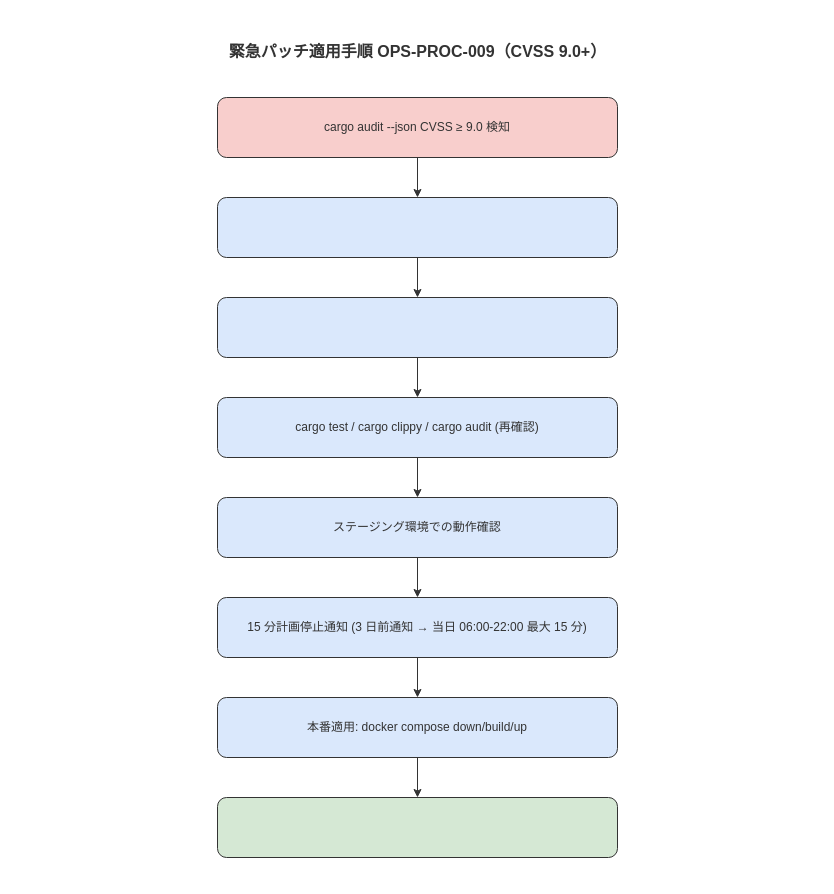
Some shapes in this 834 by 894 pixel diagram are drawn without their labels. Each missing label, with the centre of its shape:
"Cargo.toml 更新 & cargo update" goes at (417,327).
"ヘルスチェック確認 & maintenance_log 記録" goes at (417,827).
"影響クレート特定・修正版バージョン確認" goes at (417,227).
